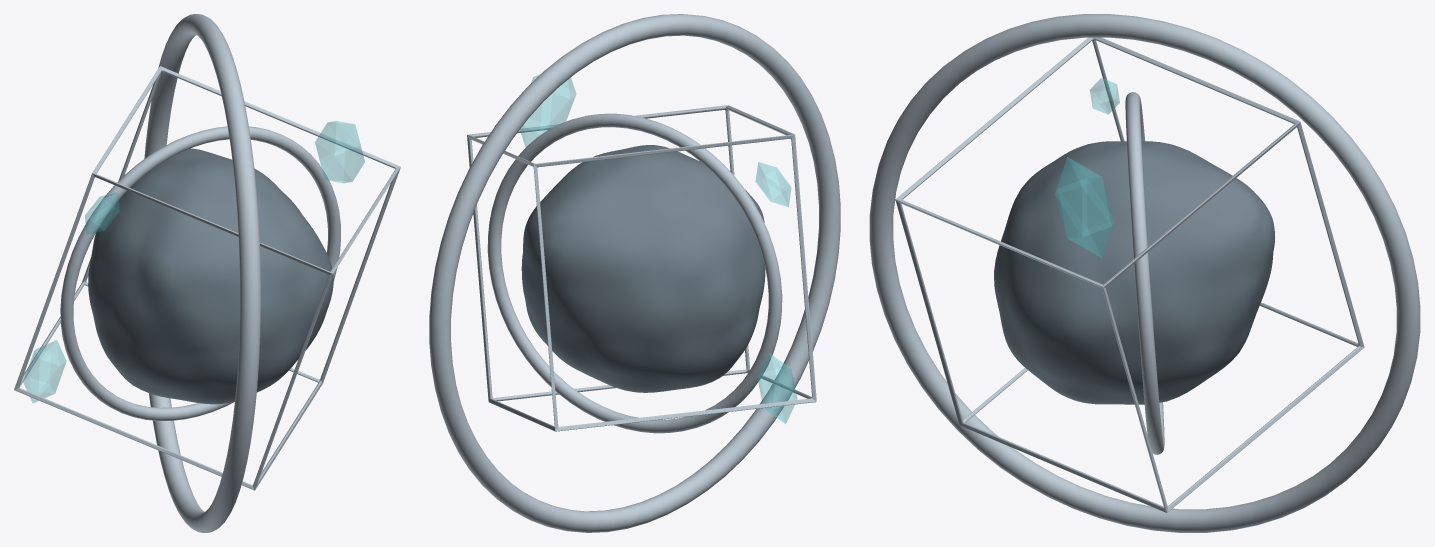
Rendered from digital_core.glb.
3 renders of one model, left to right at view 1: azimuth 30°, elevation 25°; view 2: azimuth 150°, elevation 25°; view 3: azimuth 270°, elevation 25°, orthographic. The views are drawn at different scales.
Parts seen in each view (by area): view 1: DC_Crystal_Core, DC_Portal_Frame_02, DC_Geometric_Cage_01, DC_Portal_Frame_01, DC_Crystal_Shard_01, DC_Crystal_Shard_02, DC_Crystal_Shard_03; view 2: DC_Crystal_Core, DC_Portal_Frame_02, DC_Portal_Frame_01, DC_Geometric_Cage_01, DC_Crystal_Shard_02, DC_Crystal_Shard_01, DC_Crystal_Shard_03; view 3: DC_Crystal_Core, DC_Portal_Frame_02, DC_Geometric_Cage_01, DC_Portal_Frame_01, DC_Crystal_Shard_01, DC_Crystal_Shard_03.
Part boxes in pixels (left/top/right/bottom): DC_Crystal_Core: left=88, top=148, right=333, bottom=404; DC_Portal_Frame_02: left=144, top=14, right=260, bottom=532; DC_Geometric_Cage_01: left=14, top=66, right=400, bottom=490; DC_Portal_Frame_01: left=60, top=126, right=340, bottom=420; DC_Crystal_Shard_01: left=315, top=121, right=364, bottom=182; DC_Crystal_Shard_02: left=23, top=340, right=66, bottom=402; DC_Crystal_Shard_03: left=85, top=192, right=119, bottom=234; DC_Crystal_Core: left=521, top=145, right=765, bottom=392; DC_Portal_Frame_02: left=429, top=14, right=840, bottom=532; DC_Portal_Frame_01: left=487, top=113, right=782, bottom=433; DC_Geometric_Cage_01: left=467, top=105, right=816, bottom=431; DC_Crystal_Shard_02: left=757, top=353, right=797, bottom=423; DC_Crystal_Shard_01: left=520, top=74, right=575, bottom=146; DC_Crystal_Shard_03: left=756, top=162, right=791, bottom=206; DC_Crystal_Core: left=994, top=141, right=1274, bottom=404; DC_Portal_Frame_02: left=869, top=14, right=1420, bottom=532; DC_Geometric_Cage_01: left=895, top=37, right=1364, bottom=512; DC_Portal_Frame_01: left=1125, top=92, right=1164, bottom=454; DC_Crystal_Shard_01: left=1055, top=157, right=1114, bottom=257; DC_Crystal_Shard_03: left=1090, top=78, right=1119, bottom=114.
Size of the model in its own units: 4.68 by 5.79 by 5.49.
